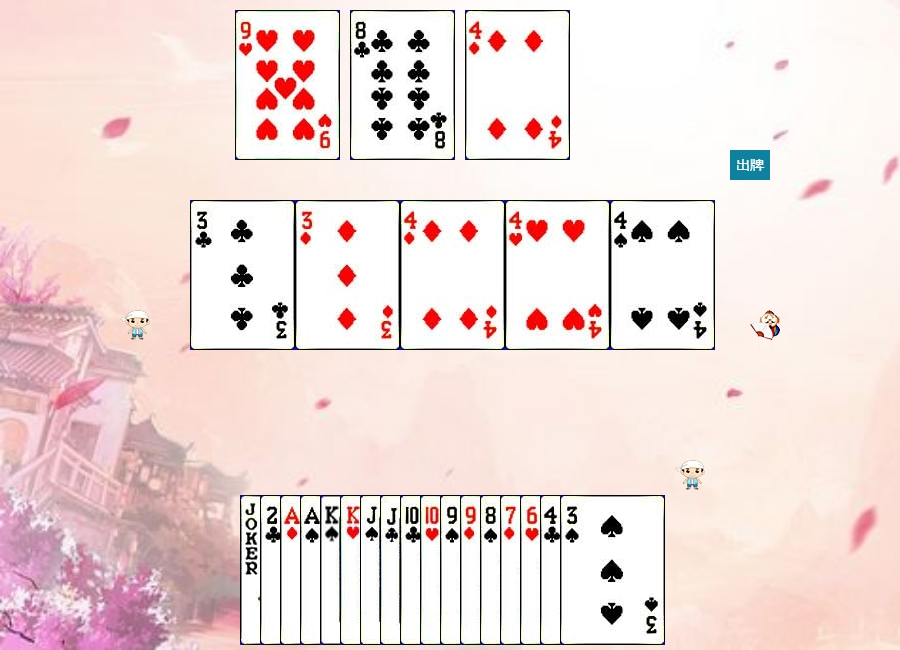10~2: (400, 495, 505, 645)
10~3: (420, 495, 525, 645)
11~2: (380, 495, 485, 645)
11~4: (360, 495, 465, 645)
13~3: (340, 495, 445, 645)
13~4: (320, 495, 425, 645)
14~1: (280, 495, 385, 645)
14~4: (300, 495, 405, 645)
15~2: (260, 495, 365, 645)
17~3: (240, 495, 345, 645)
3~1: (295, 200, 400, 350)
3~2: (190, 200, 295, 350)
3~4: (560, 495, 665, 645)
4~1: (465, 10, 570, 160), (400, 200, 505, 350)
4~2: (540, 495, 645, 645)
4~3: (505, 200, 610, 350)
4~4: (610, 200, 715, 350)
6~3: (520, 495, 625, 645)
7~1: (500, 495, 605, 645)
8~2: (350, 10, 455, 160)
8~4: (480, 495, 585, 645)
9~1: (460, 495, 565, 645)
9~3: (235, 10, 340, 160)
9~4: (440, 495, 545, 645)
